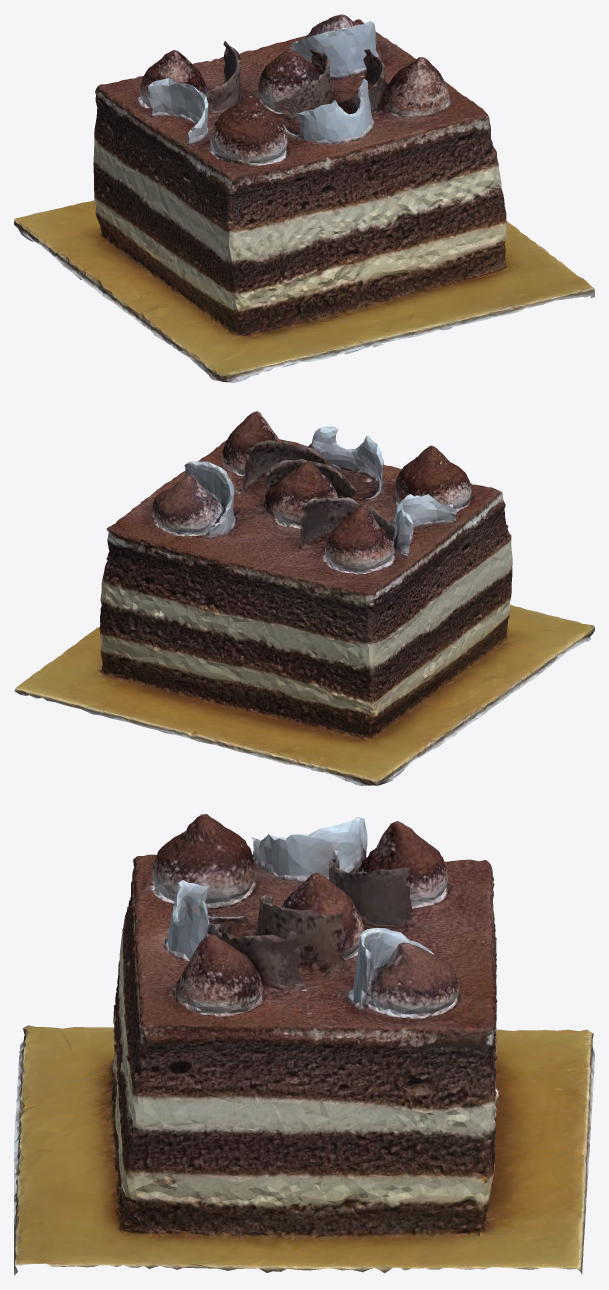
Rendered from pastry.glb.
3 views of the same model, one above another, from view 1: azimuth 30°, elevation 25°; view 2: azimuth 150°, elevation 25°; view 3: azimuth 270°, elevation 25° (orthographic). The views are drawn at different scales.
Size of the model in its own units: 0.7209 by 0.3944 by 0.7286.
1 material, 1 textured.
